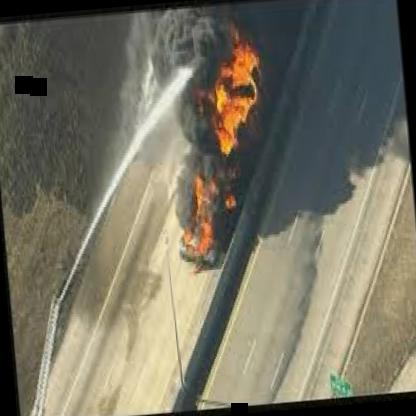fire: (157, 5, 279, 271)
